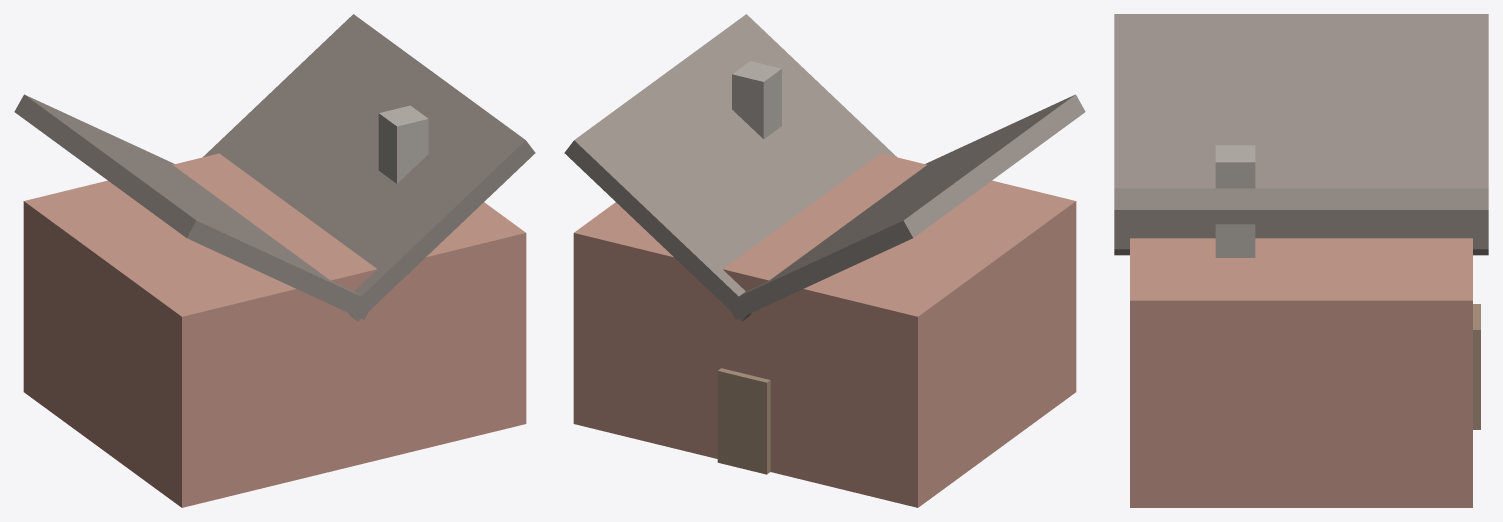
3 renders of one model, left to right at view 1: azimuth 30°, elevation 25°; view 2: azimuth 150°, elevation 25°; view 3: azimuth 270°, elevation 25°, orthographic. The views are drawn at different scales.
Visible parts, largest first — view 1: brick-walls, roof-right, roof-left, chimney; view 2: brick-walls, roof-right, roof-left, door, chimney; view 3: brick-walls, roof-left, roof-right, chimney, door.
Part boxes in pixels (x1=…): brick-walls: x1=23, y1=153, x2=526, y2=507; roof-right: x1=203, y1=14, x2=535, y2=321; roof-left: x1=14, y1=94, x2=373, y2=319; chimney: x1=378, y1=105, x2=428, y2=183; brick-walls: x1=573, y1=153, x2=1076, y2=507; roof-right: x1=564, y1=14, x2=896, y2=321; roof-left: x1=726, y1=94, x2=1085, y2=319; door: x1=717, y1=368, x2=770, y2=474; chimney: x1=732, y1=61, x2=781, y2=139; brick-walls: x1=1130, y1=238, x2=1472, y2=507; roof-left: x1=1114, y1=14, x2=1488, y2=255; roof-right: x1=1114, y1=188, x2=1488, y2=249; chimney: x1=1215, y1=145, x2=1255, y2=257; door: x1=1473, y1=304, x2=1480, y2=429.
Size of the model in its own units: 9.94 by 7.91 by 8.5.
